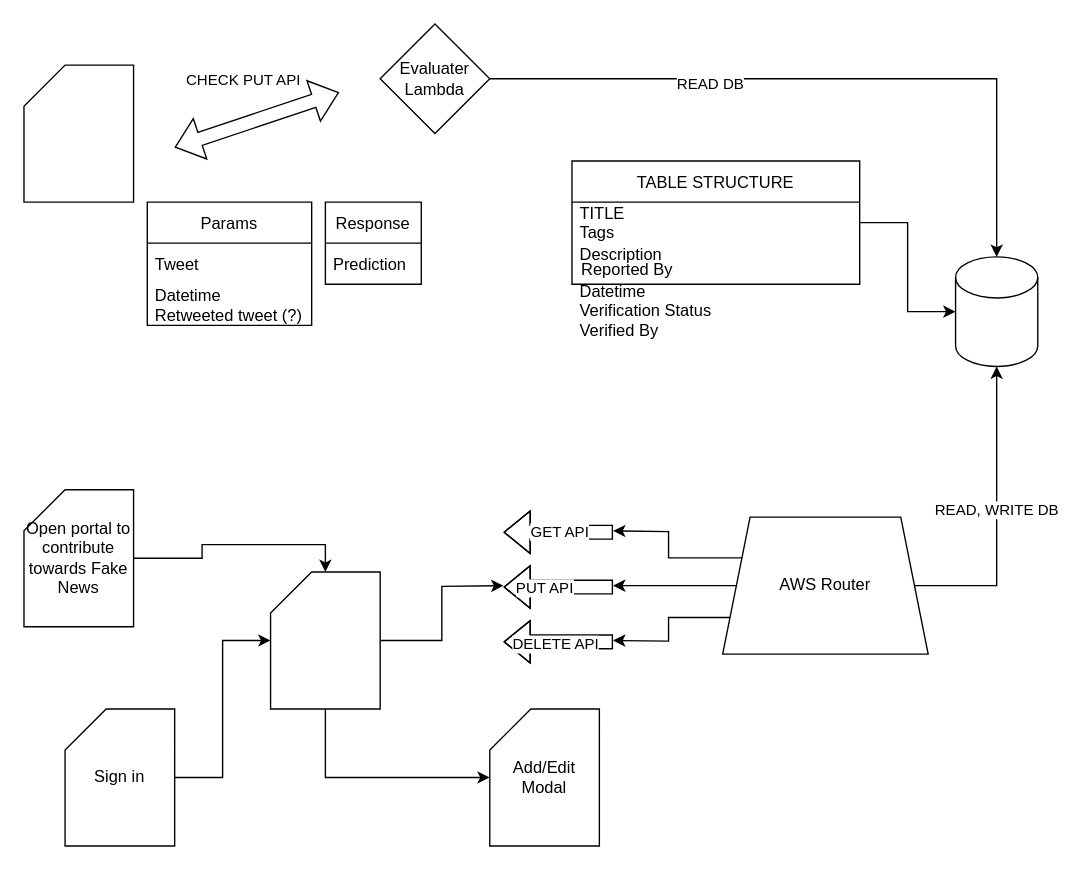
Image size: 1081x870. Some labels were removed from this diagram. Each missing label, with the centre of its shape:
"Add/Edit Fakes News" belongs at point (324, 640).
"DDB" belongs at point (996, 311).
"Extension" belongs at point (78, 133).
